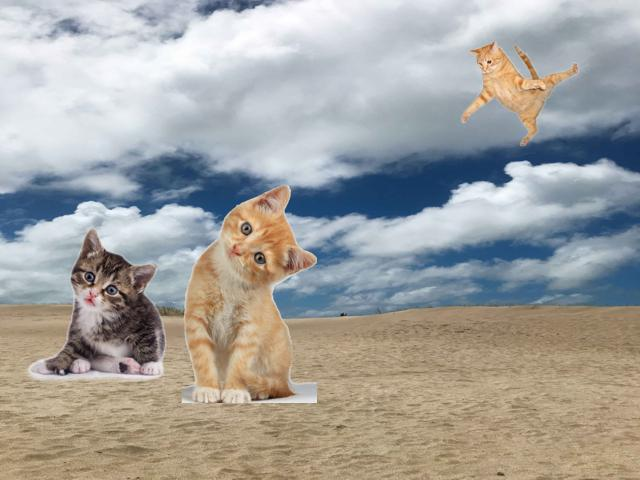cat: (184, 178, 315, 401), (23, 225, 167, 385), (462, 43, 577, 145)
